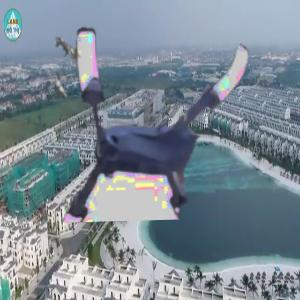drone: (57, 16, 263, 222)
